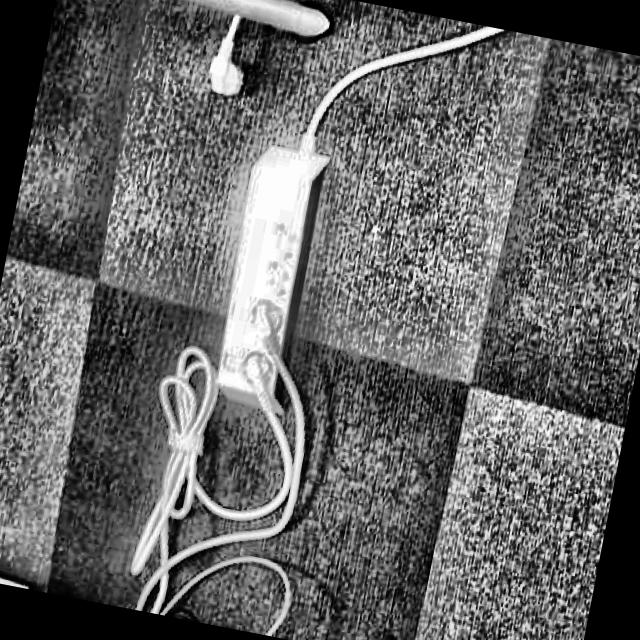Cable: (103, 0, 501, 640)
